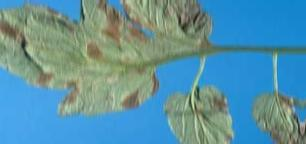Tomato mold leaf: (0, 0, 217, 120), (166, 81, 251, 144), (254, 90, 306, 144)
